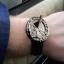watch: (26, 15, 51, 44)
